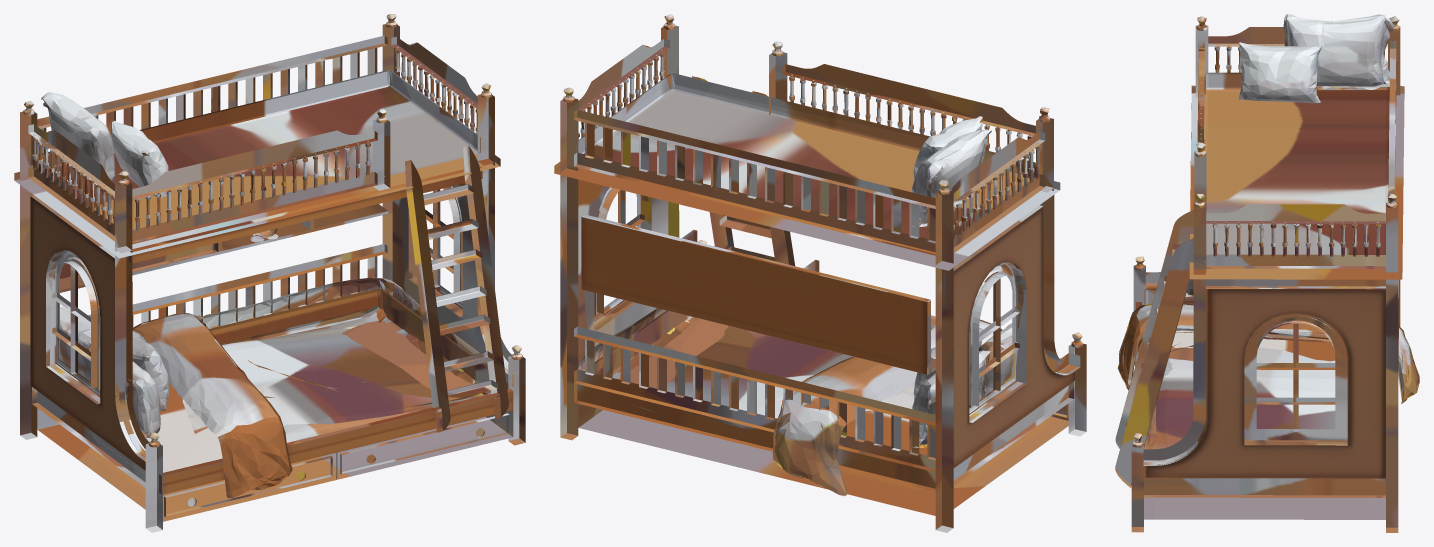
File: edited_mesh.glb
3 views of the same model, side by side, from view 1: azimuth 30°, elevation 25°; view 2: azimuth 150°, elevation 25°; view 3: azimuth 270°, elevation 25° (orthographic). The views are drawn at different scales.
Parts seen in each view (by area): view 1: solid_001_wire; view 2: solid_001_wire; view 3: solid_001_wire.
Boxes of the visible parts, left/top/right/bottom form: solid_001_wire: left=14, top=14, right=525, bottom=532; solid_001_wire: left=554, top=14, right=1086, bottom=532; solid_001_wire: left=1115, top=14, right=1419, bottom=532.
Bounding box in the file's own units: 1.47 × 1.27 × 1.01.
Materials: 1 (1 with a texture image).
